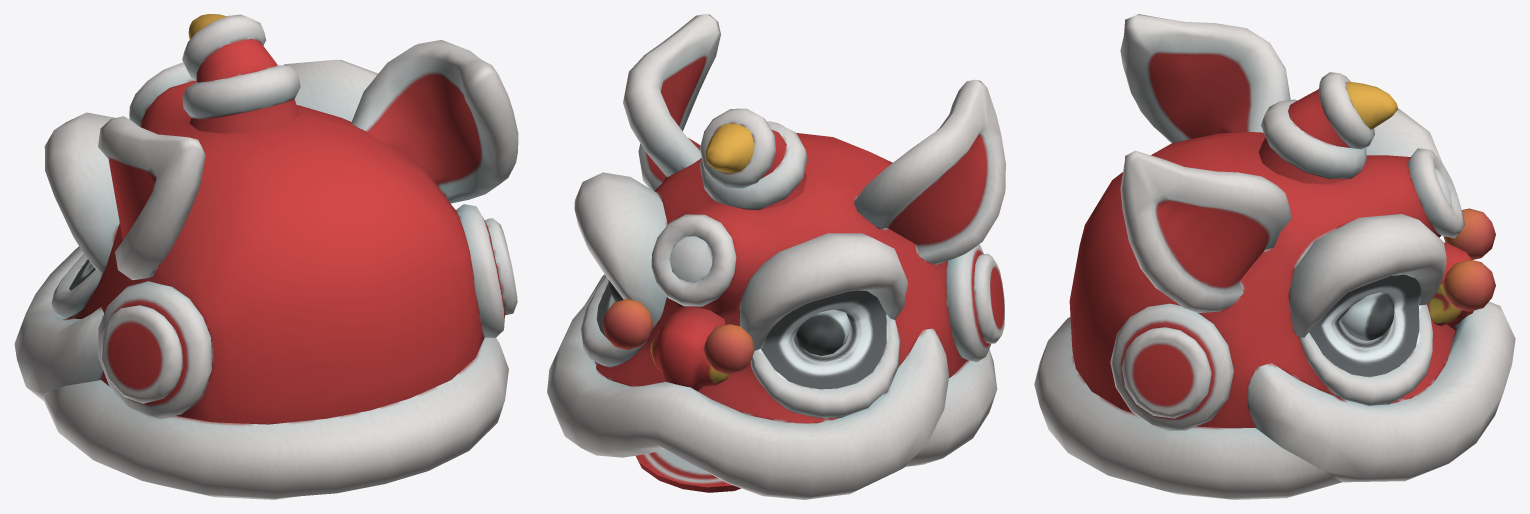
File: IG_Helmat_LionDance.fbx
3 views of the same model, side by side, from view 1: azimuth 30°, elevation 25°; view 2: azimuth 150°, elevation 25°; view 3: azimuth 270°, elevation 25° (orthographic). The views are drawn at different scales.
Visible parts, largest first — view 1: Helmets_LionDance; view 2: Helmets_LionDance; view 3: Helmets_LionDance.
Part boxes in pixels (bbox=[...]): Helmets_LionDance: bbox=[14, 14, 518, 499]; Helmets_LionDance: bbox=[547, 14, 1005, 499]; Helmets_LionDance: bbox=[1034, 14, 1515, 499].
Size of the model in its own units: 0.8173 by 0.7124 by 0.896.
